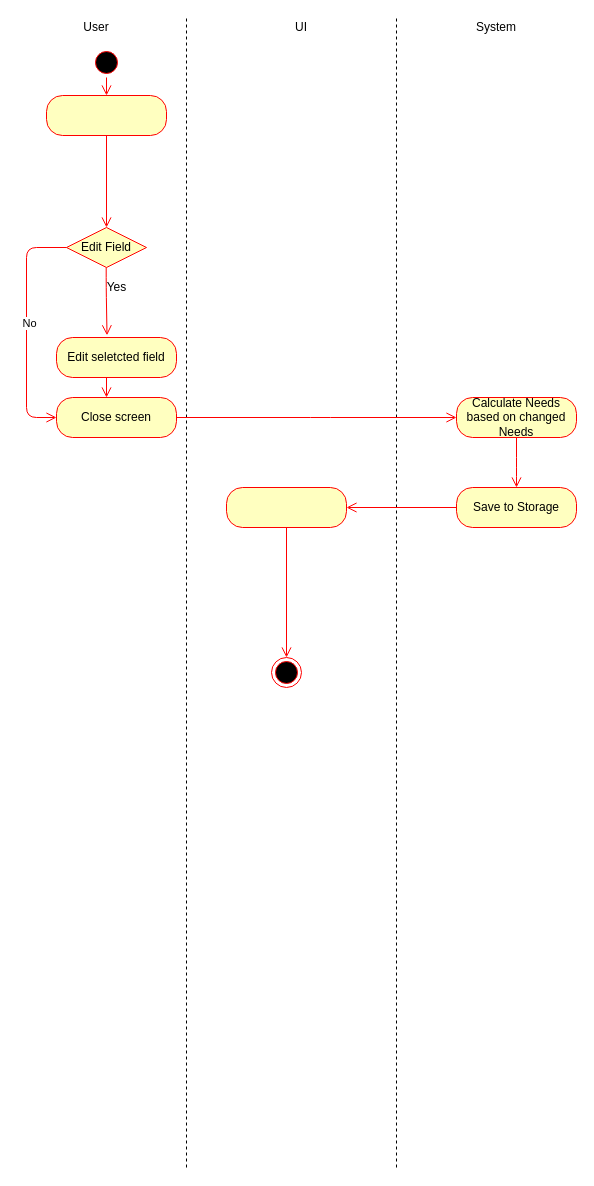
Image size: 594x1186. Some labels were removed from this diagram. Each missing label, with the centre of its shape:
"Display Seetings Main Page" belongs at point (286, 507).
"Edit Goals" belongs at point (106, 115).
